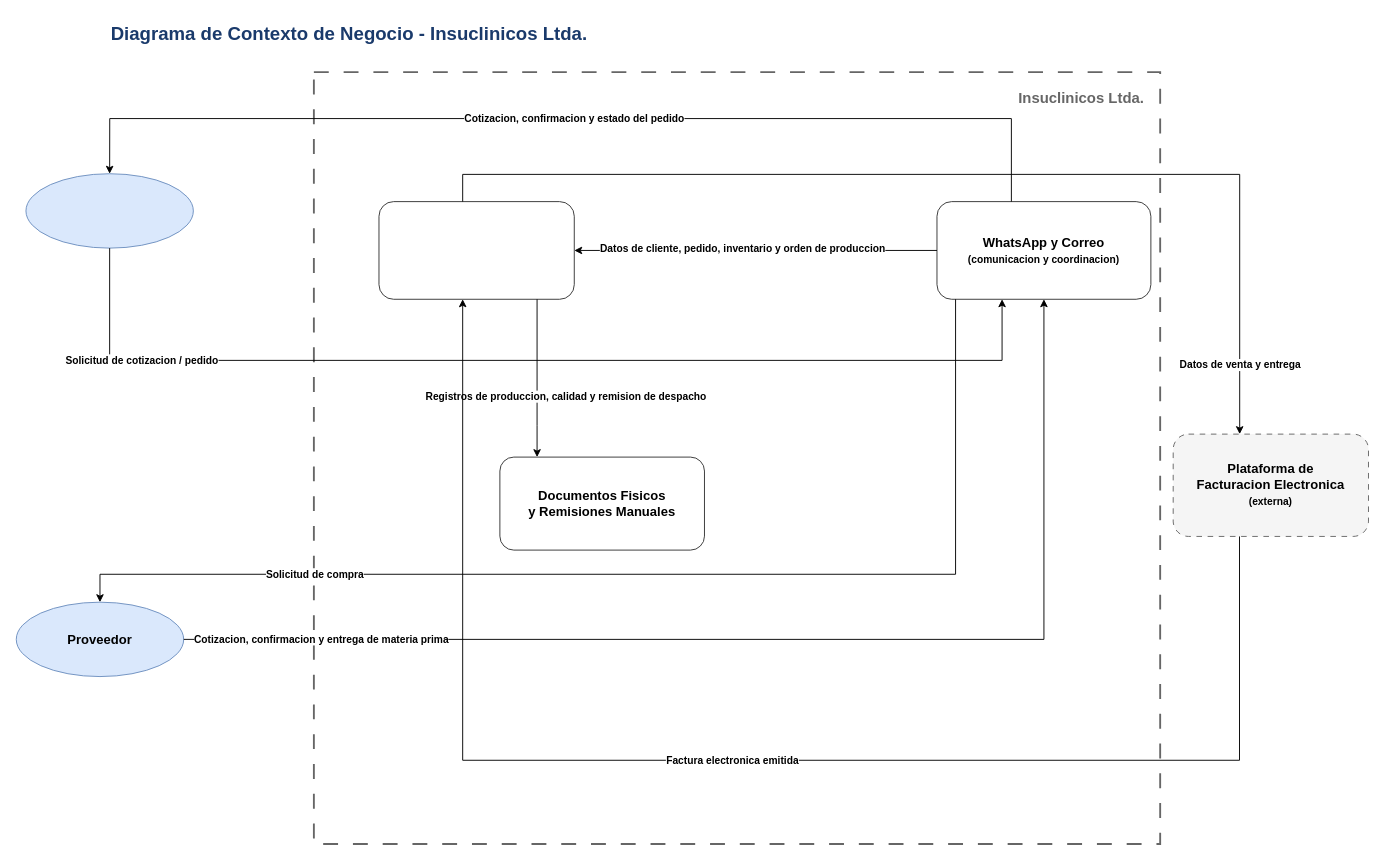
Some shapes in this 1385 by 860 pixel diagram are drawn without their labels. The centre of each missing label's shape, as x and y in pixels:
Cliente: pixel 109 210
Excel Operativo (pedidos, inventario, produccion): pixel 476 250
